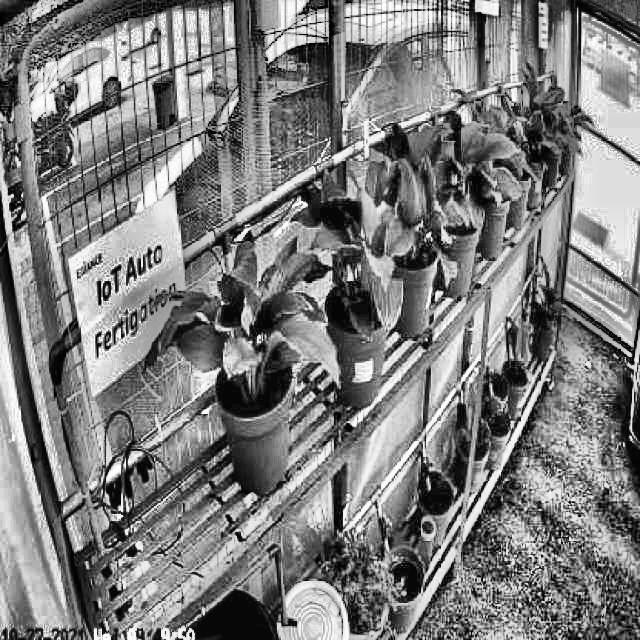plants: (139, 228, 333, 408), (294, 152, 408, 330), (358, 122, 458, 290), (410, 105, 521, 226)
